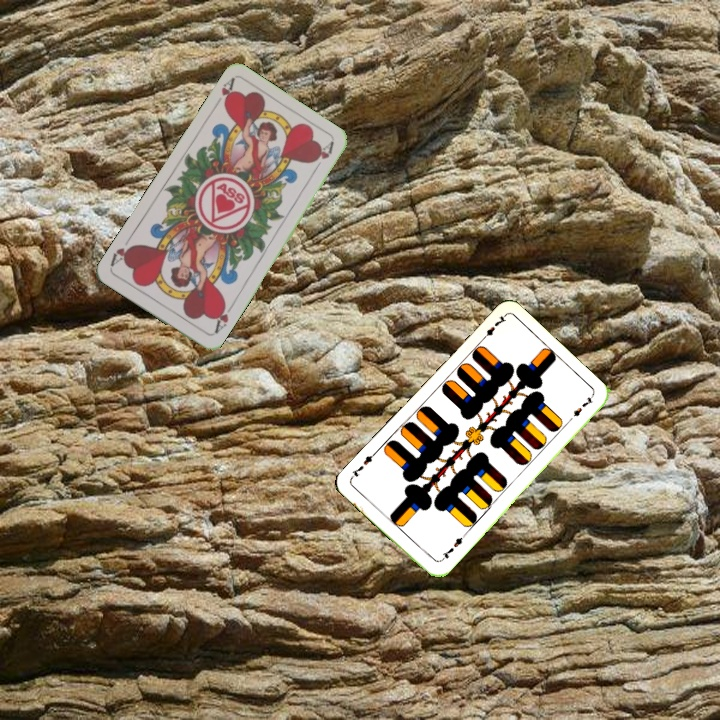E7: (476, 311, 509, 344), (435, 531, 467, 564)
HA: (209, 75, 238, 111), (210, 297, 236, 336)
